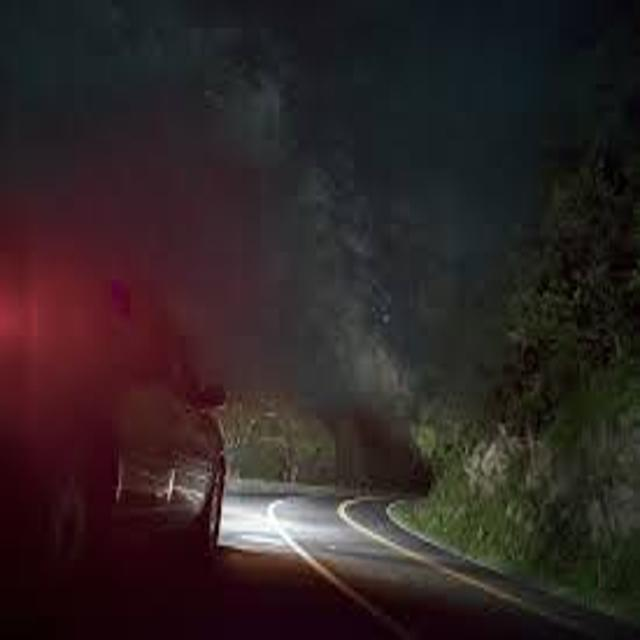car: (1, 244, 228, 555)
